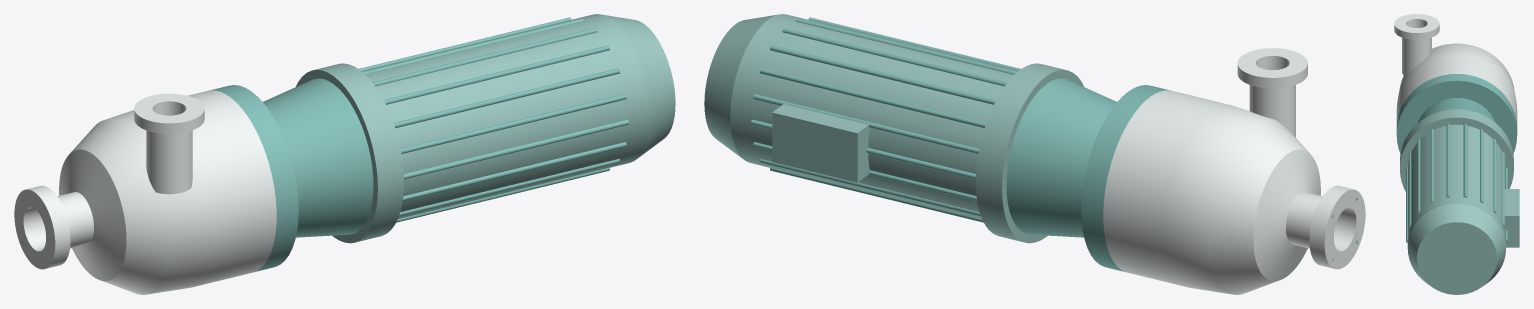
3 renders of one model, left to right at view 1: azimuth 30°, elevation 25°; view 2: azimuth 150°, elevation 25°; view 3: azimuth 270°, elevation 25°, orthographic. The views are drawn at different scales.
Parts seen in each view (by area): view 1: 泵体_圆弧壳与轴向进液口, 电机_带筋机壳, 连接座_短连接段, 电机_连接法兰, 连接座_泵壳连接环, 电机_圆弧尾罩, 接口_偏置竖向出液管, 接口_朝上出液法兰, 电机_散热筋09, 电机_散热筋08, 电机_散热筋10, 电机_散热筋07 (+6 smaller); view 2: 泵体_圆弧壳与轴向进液口, 电机_带筋机壳, 连接座_短连接段, 电机_连接法兰, 电机_接线盒, 连接座_泵壳连接环, 电机_圆弧尾罩, 接口_朝上出液法兰, 接口_偏置竖向出液管, 电机_散热筋03, 电机_散热筋04, 电机_散热筋05 (+7 smaller); view 3: 电机_圆弧尾罩, 电机_带筋机壳, 连接座_泵壳连接环, 泵体_圆弧壳与轴向进液口, 电机_连接法兰, 接口_朝上出液法兰, 电机_接线盒, 接口_偏置竖向出液管, 连接座_短连接段, 电机_散热筋05, 电机_散热筋07, 电机_散热筋04 (+6 smaller).
Boxes of the visible parts, x1,y1,x2,y2 form: 泵体_圆弧壳与轴向进液口: (14,90,276,294); 电机_带筋机壳: (361,14,649,218); 连接座_短连接段: (263,78,373,237); 电机_连接法兰: (296,63,403,243); 连接座_泵壳连接环: (209,85,298,272); 电机_圆弧尾罩: (602,14,675,158); 接口_偏置竖向出液管: (146,112,192,194); 接口_朝上出液法兰: (134,93,204,133); 电机_散热筋09: (400,94,626,153); 电机_散热筋08: (393,68,619,128); 电机_散热筋10: (404,119,628,179); 电机_散热筋07: (384,45,609,104); 泵体_圆弧壳与轴向进液口: (1103,90,1365,294); 电机_带筋机壳: (730,14,1018,218); 连接座_短连接段: (1006,78,1116,237); 电机_连接法兰: (976,63,1083,243); 电机_接线盒: (772,104,869,182); 连接座_泵壳连接环: (1081,85,1170,272); 电机_圆弧尾罩: (704,14,777,158); 接口_朝上出液法兰: (1237,48,1307,88); 接口_偏置竖向出液管: (1249,66,1295,137); 电机_散热筋03: (760,68,986,128); 电机_散热筋04: (770,45,995,104); 电机_散热筋05: (782,28,1007,86); 电机_圆弧尾罩: (1407,203,1505,294); 电机_带筋机壳: (1407,124,1505,246); 连接座_泵壳连接环: (1396,74,1517,153); 泵体_圆弧壳与轴向进液口: (1396,43,1517,127); 电机_连接法兰: (1400,109,1513,191); 接口_朝上出液法兰: (1394,14,1439,39); 电机_接线盒: (1504,189,1519,247); 接口_偏置竖向出液管: (1402,25,1431,76); 连接座_短连接段: (1418,98,1495,122); 电机_散热筋05: (1463,123,1467,197); 电机_散热筋07: (1430,129,1433,203); 电机_散热筋04: (1480,129,1483,203).
Size of the model in its own units: 2.15 by 0.6852 by 0.5955.
